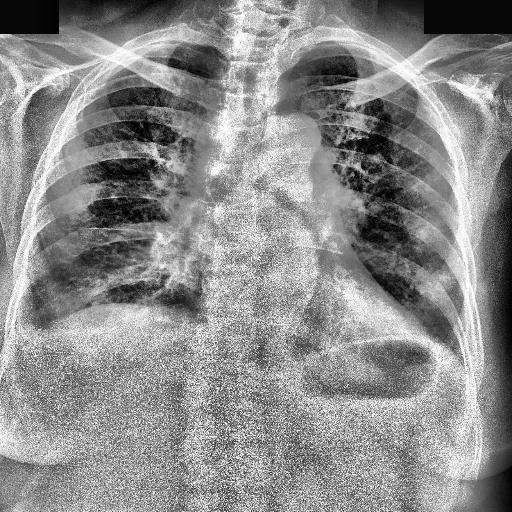0- Aortic enlargement: (248, 112, 322, 184), (263, 116, 318, 201), (260, 110, 322, 176)
10- Pleural effusion: (6, 307, 50, 371)
11- Pleural thickening: (6, 307, 50, 371)
3- Cardiomegaly: (204, 258, 444, 370), (191, 268, 429, 360), (194, 280, 436, 356)
7- Lung Opacity: (6, 307, 50, 371)
